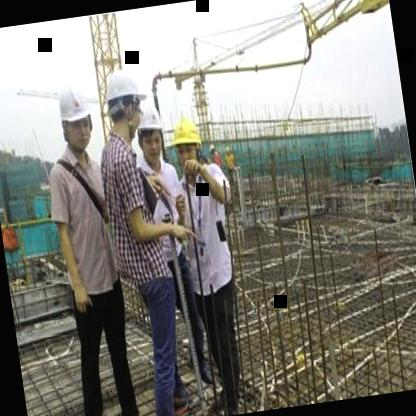helmet: (94, 63, 148, 146), (52, 76, 101, 161), (133, 100, 173, 171), (168, 108, 206, 180)
